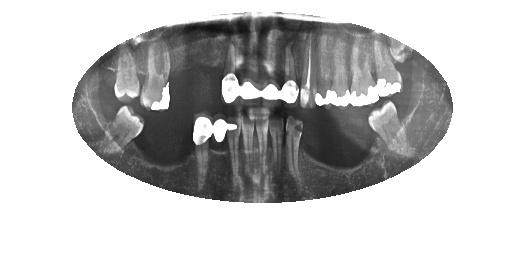Cavity: (286, 112, 304, 175)
Fillings: (139, 45, 172, 111), (350, 32, 377, 110), (369, 37, 400, 96), (328, 34, 350, 109), (280, 31, 300, 105), (312, 37, 333, 107), (190, 109, 216, 165), (213, 113, 234, 182), (222, 39, 243, 104), (259, 36, 280, 101), (240, 41, 261, 103)
